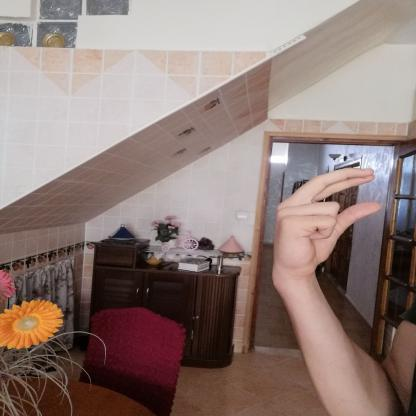DHELL: (266, 161, 389, 275)
